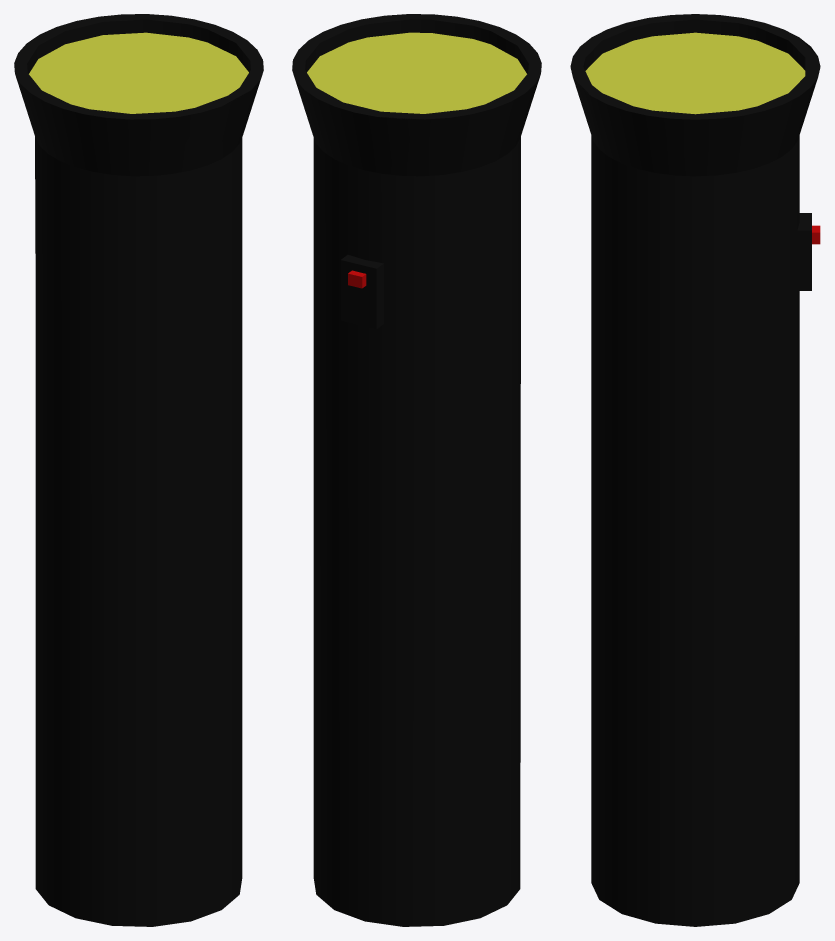
File: flashli.obj
The picture shows the model from 3 angles, left to right: view 1: azimuth 30°, elevation 25°; view 2: azimuth 150°, elevation 25°; view 3: azimuth 270°, elevation 25°; orthographic projection.
Parts seen in each view (by area): view 1: Cylinder; view 2: Cylinder; view 3: Cylinder.
Boxes of the visible parts, <box> form: Cylinder: <box>14,14,263,926</box>; Cylinder: <box>292,14,541,926</box>; Cylinder: <box>570,14,820,926</box>.
Bounding box in the file's own units: 0.6 × 2.16 × 0.6.
